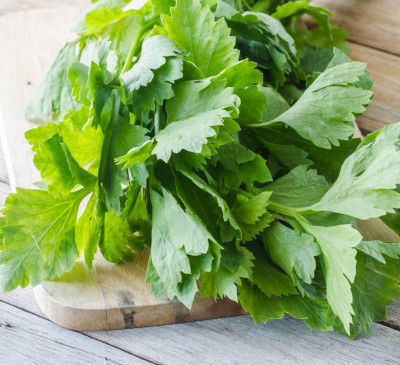Seledri: (53, 26, 394, 328)
